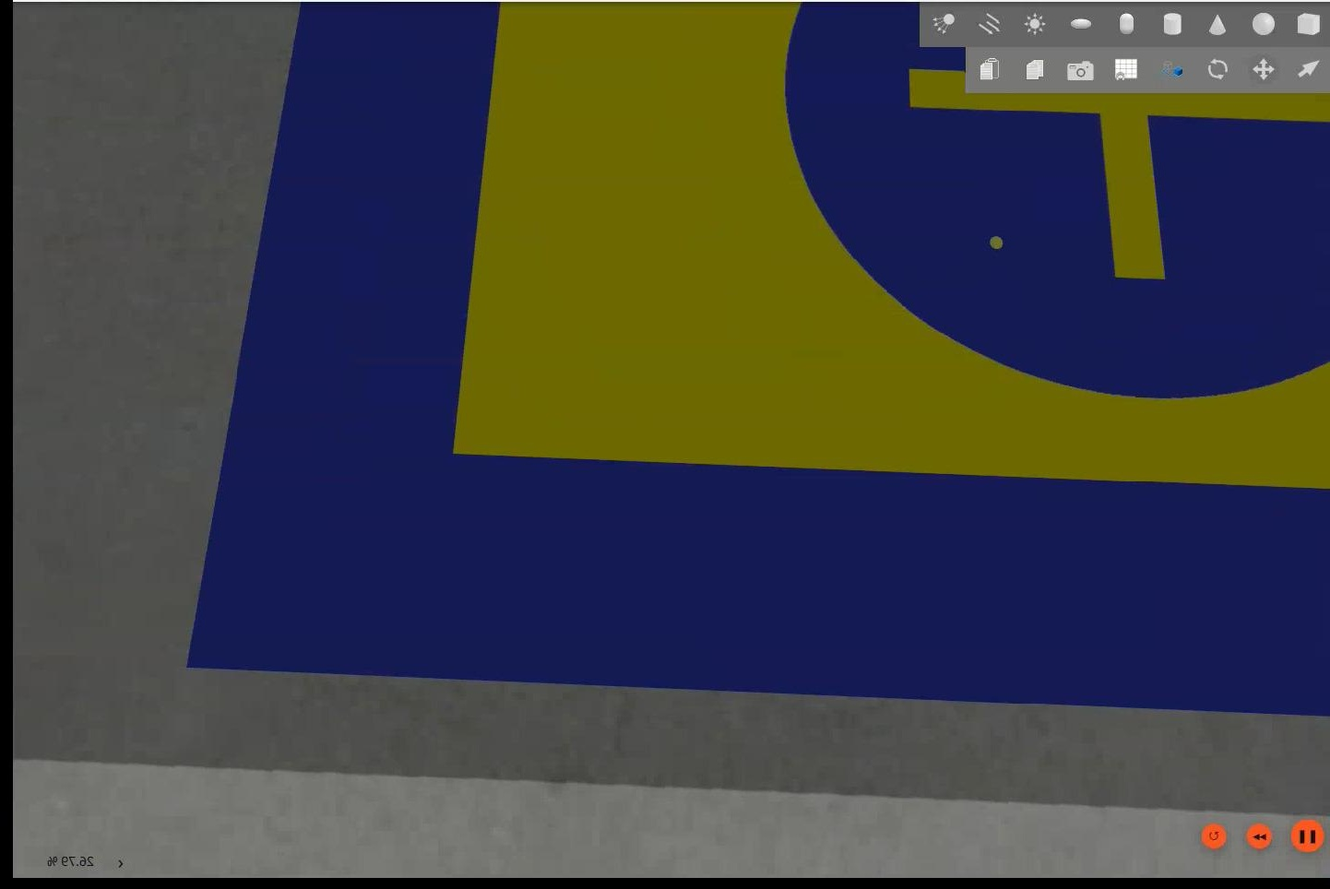large_base: (183, 1, 1328, 717)
